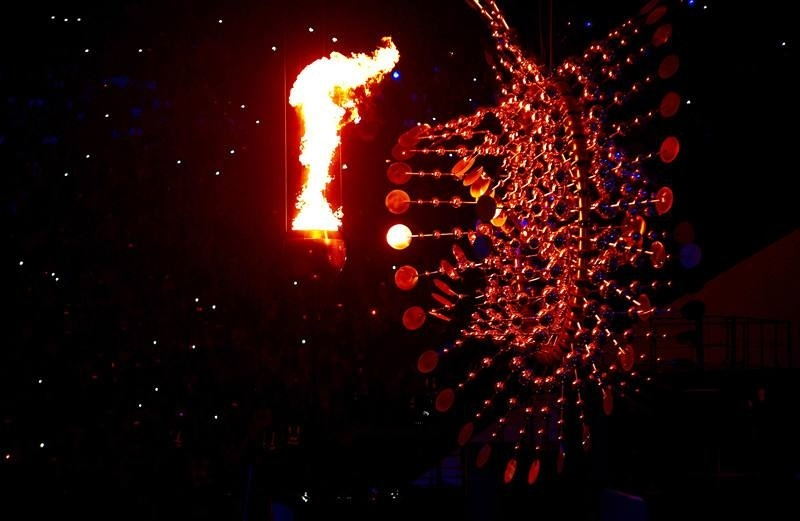fire: (286, 38, 399, 238)
